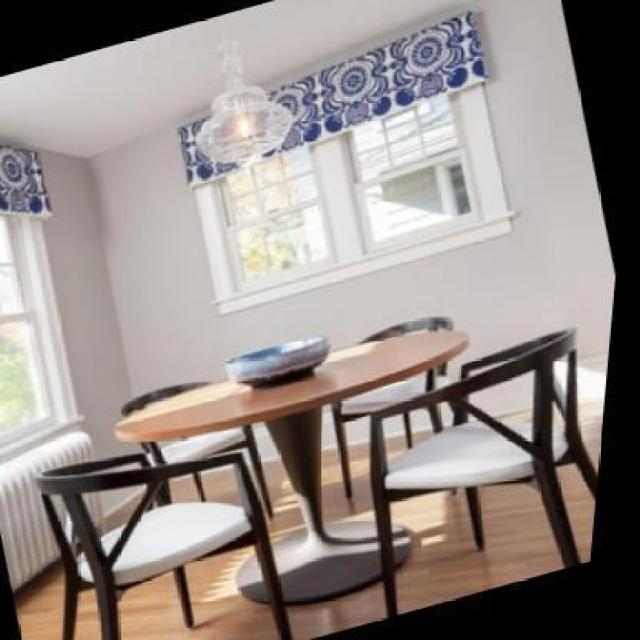tables: (112, 329, 471, 617)
